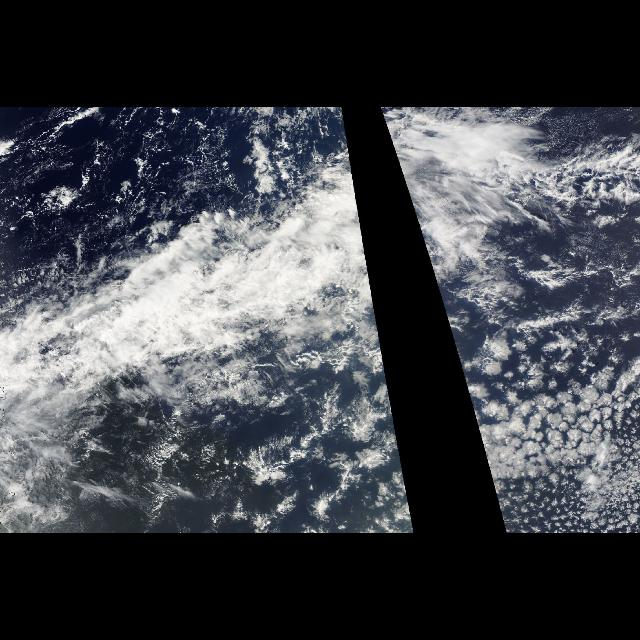Fish: (4, 110, 362, 364), (381, 110, 639, 242)
Flower: (456, 324, 640, 522), (329, 354, 408, 501)
Gravel: (5, 108, 195, 218)
